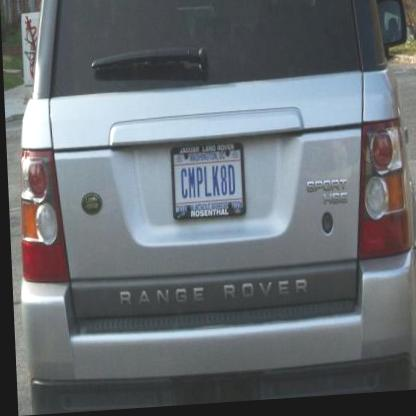License_Plate: (170, 142, 246, 220)
